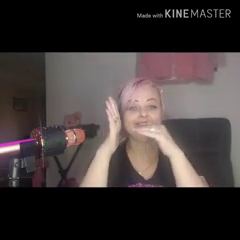Z: (103, 95, 175, 157)
